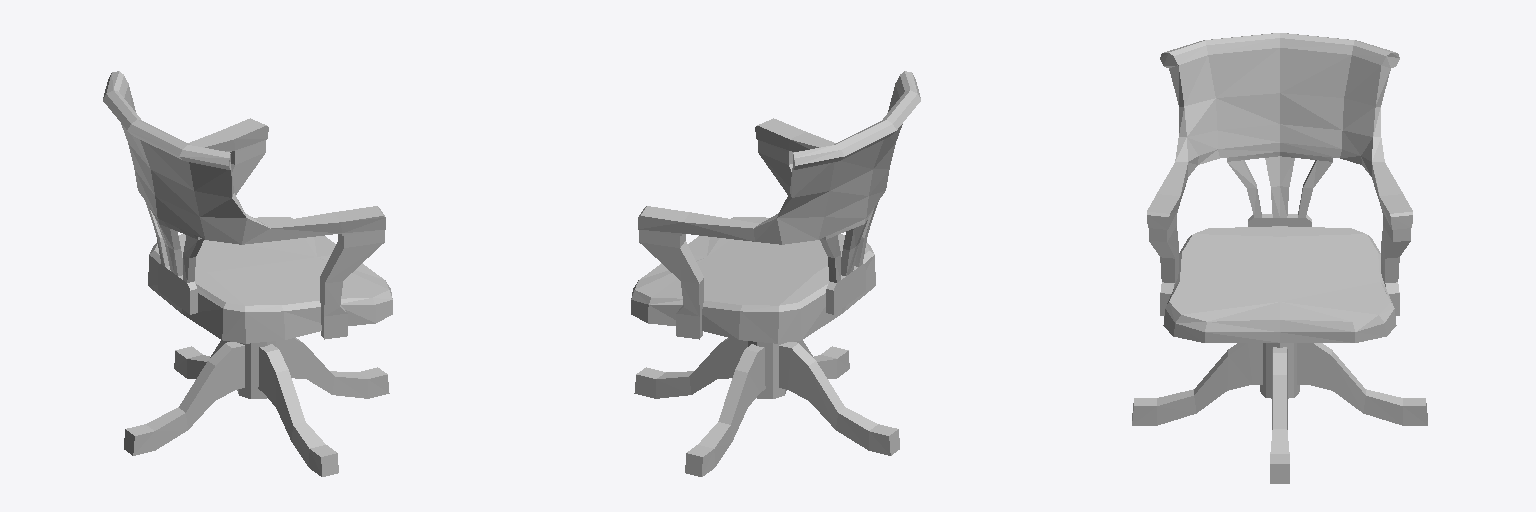
File: chair.obj
3 views of the same model, side by side, from view 1: azimuth 30°, elevation 25°; view 2: azimuth 150°, elevation 25°; view 3: azimuth 270°, elevation 25° (orthographic).
Visible parts, largest first — view 1: Mesh0; view 2: Mesh0; view 3: Mesh0.
Part boxes in pixels (x1,y1,x2,y2): Mesh0: (103,71,392,476); Mesh0: (631,71,920,476); Mesh0: (1132,33,1427,483).
Bounding box in the file's own units: 68.19 × 83.72 × 67.91.